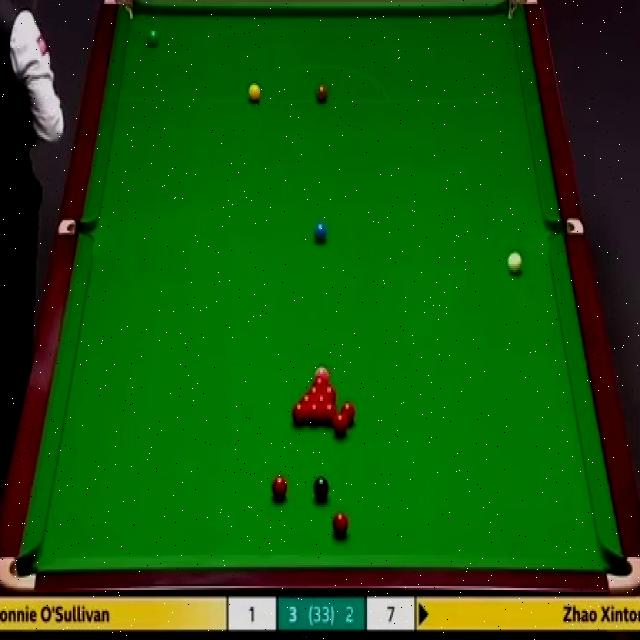black-ball: (313, 476, 330, 502)
blue-ball: (314, 222, 328, 242)
brown-ball: (315, 85, 328, 104)
green-ball: (147, 29, 159, 48)
pink-ball: (314, 363, 331, 378)
red-ball: (270, 474, 288, 500), (334, 511, 349, 538), (322, 402, 337, 426), (290, 402, 306, 424), (340, 402, 354, 426), (306, 402, 321, 424), (333, 414, 347, 437), (322, 384, 337, 401), (310, 373, 328, 384), (306, 385, 322, 394), (299, 394, 314, 403), (314, 394, 330, 402)
white-ball: (508, 248, 525, 276)
yellow-ball: (247, 82, 261, 102)
